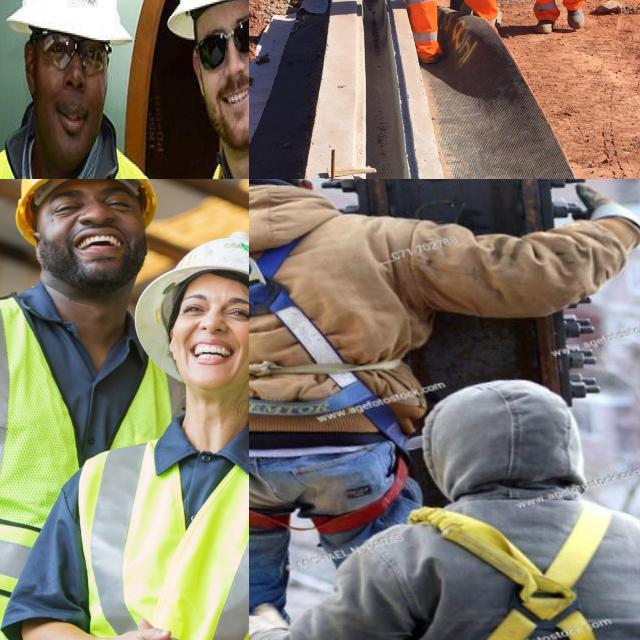Harness: (249, 240, 409, 534), (410, 504, 613, 640)
No_Ear-Protection: (22, 38, 38, 98)
face_nomask: (21, 0, 114, 175), (33, 185, 148, 300), (156, 282, 249, 392), (200, 0, 249, 141)
glasses: (36, 23, 115, 80), (195, 10, 249, 74)
hand_noglove: (90, 625, 224, 640)
head_helmet: (138, 234, 249, 309), (11, 0, 125, 54), (0, 179, 167, 207)
person: (0, 179, 165, 640), (77, 237, 249, 640), (0, 0, 175, 179), (180, 0, 249, 179)
vest: (0, 290, 177, 640), (40, 427, 249, 640)
